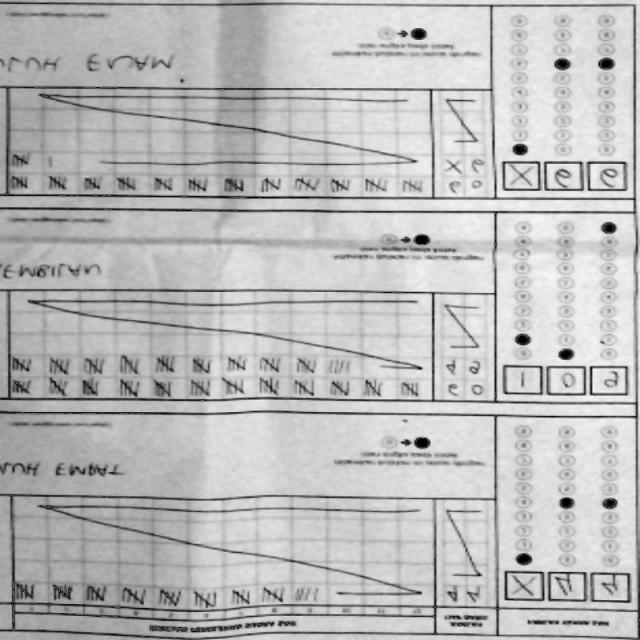Suara: (498, 159, 628, 195), (502, 365, 627, 397), (502, 571, 631, 602)
